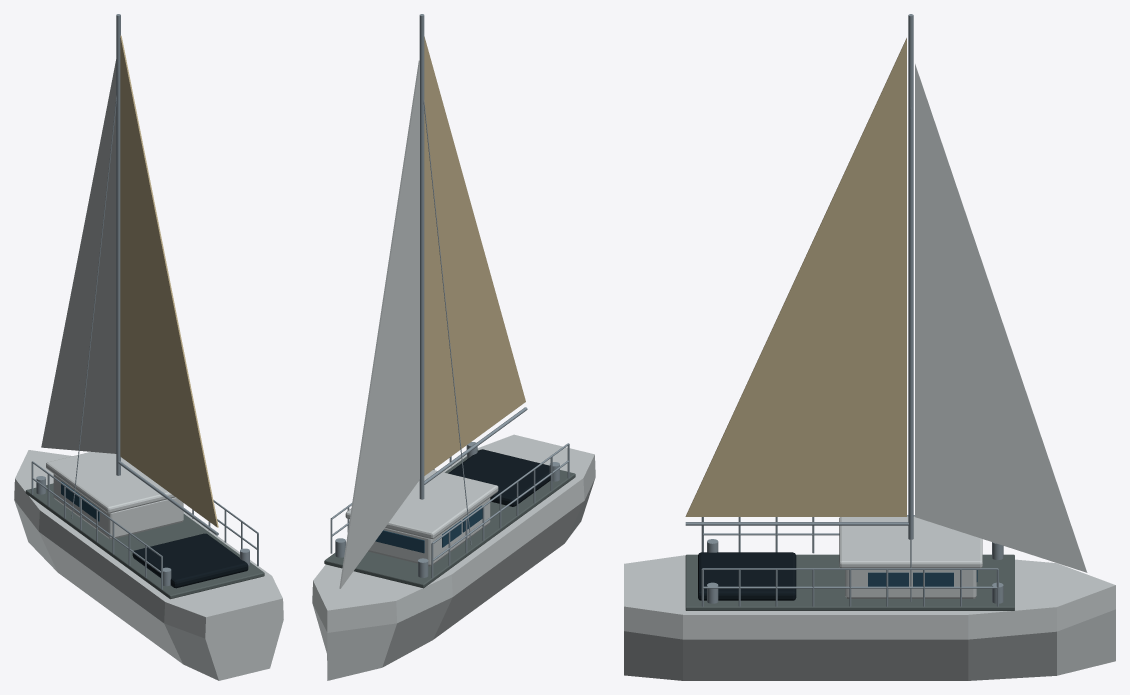
Rendered from ship-sailing.glb.
3 renders of one model, left to right at view 1: azimuth 30°, elevation 25°; view 2: azimuth 150°, elevation 25°; view 3: azimuth 270°, elevation 25°, orthographic. The views are drawn at different scales.
Visible parts, largest first — view 1: ship-sailing_body, ship-sailing_metal, ship-sailing_glass; view 2: ship-sailing_body, ship-sailing_metal, ship-sailing_glass; view 3: ship-sailing_body, ship-sailing_metal, ship-sailing_glass.
Part boxes in pixels (x1,y1,x2,y2): ship-sailing_body: (14, 35, 283, 680); ship-sailing_metal: (31, 14, 258, 589); ship-sailing_glass: (61, 481, 99, 521); ship-sailing_body: (312, 36, 595, 680); ship-sailing_metal: (330, 14, 569, 578); ship-sailing_glass: (375, 505, 482, 553); ship-sailing_body: (624, 38, 1115, 680); ship-sailing_metal: (685, 14, 1003, 606); ship-sailing_glass: (868, 570, 977, 586).
Bounding box in the file's own units: 3.5 × 17.4 × 12.
